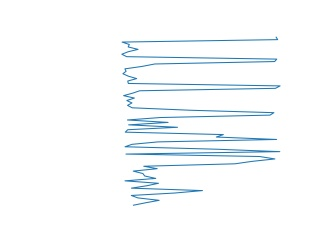crevasseRiverChannelBar: (121, 160, 288, 205)
majorRiverBedLagDeposit: (120, 120, 284, 162)
majorRiverChannelBar: (117, 35, 282, 116)
